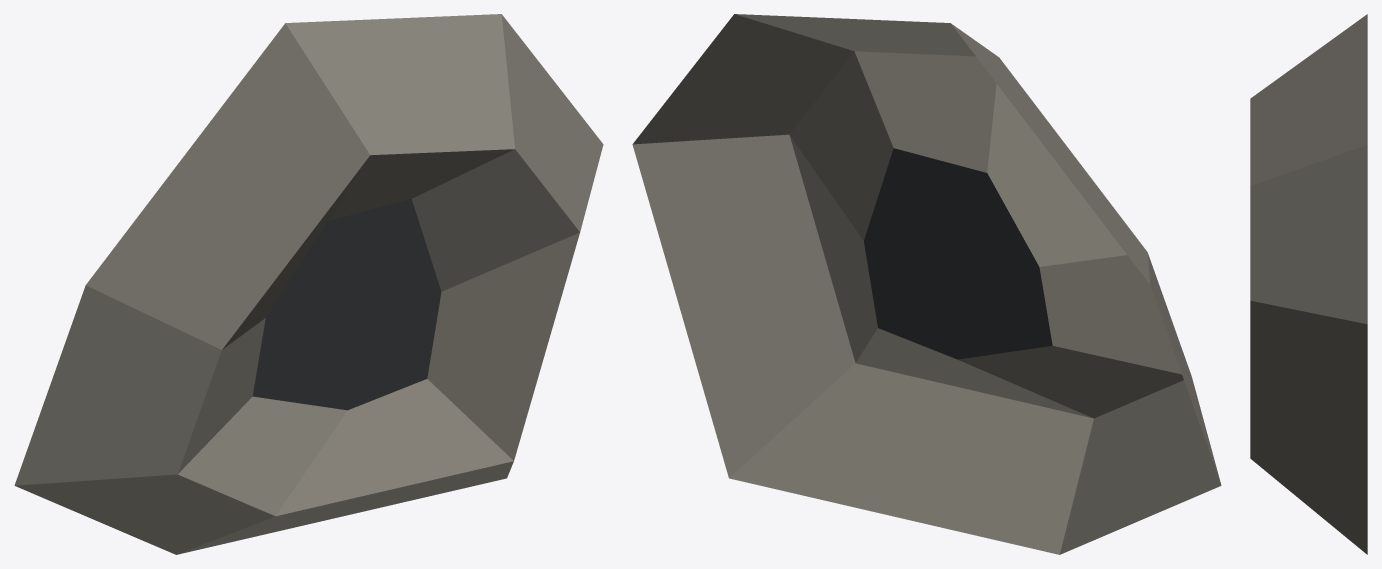
File: SM_Bullet_Hole_A.fbx
3 views of the same model, side by side, from view 1: azimuth 30°, elevation 25°; view 2: azimuth 150°, elevation 25°; view 3: azimuth 270°, elevation 25° (orthographic). The views are drawn at different scales.
Parts seen in each view (by area): view 1: SM_Bullet_Hole_A; view 2: SM_Bullet_Hole_A; view 3: SM_Bullet_Hole_A.
Boxes of the visible parts, left/top/right/bottom form: SM_Bullet_Hole_A: left=14, top=14, right=603, bottom=554; SM_Bullet_Hole_A: left=632, top=14, right=1221, bottom=554; SM_Bullet_Hole_A: left=1250, top=14, right=1367, bottom=554.
Size of the model in its own units: 24.54 by 20.28 by 4.82.
